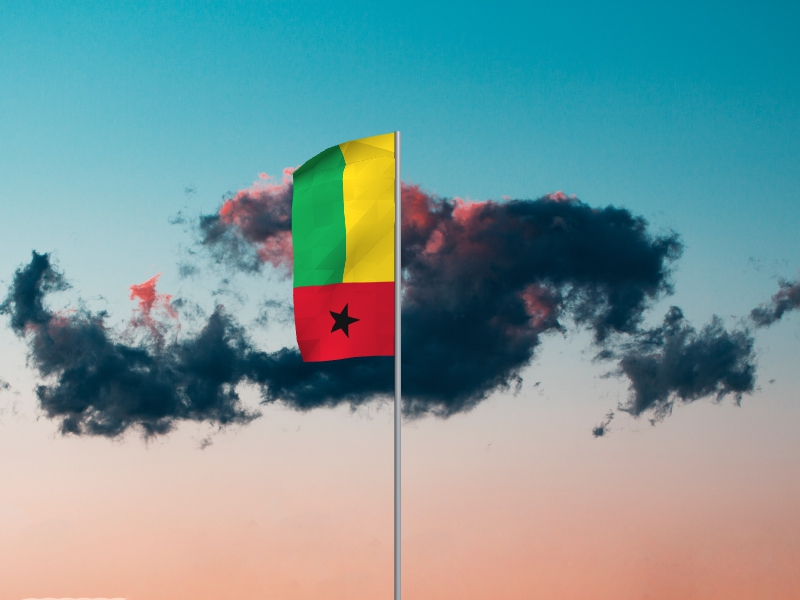gw: (291, 133, 395, 363)
